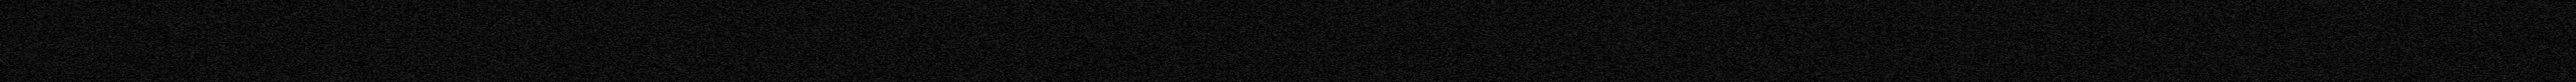wv_am: (1025, 0, 1030, 82), (977, 0, 981, 82)
wv_cw: (582, 0, 585, 82)
wv_usb: (2288, 0, 2293, 82), (2443, 0, 2446, 44), (2390, 0, 2394, 38), (2390, 54, 2394, 82), (2390, 39, 2394, 52), (2443, 71, 2446, 82), (2443, 52, 2446, 62), (2443, 46, 2446, 52), (2334, 72, 2338, 79), (2334, 15, 2338, 21), (2334, 8, 2338, 13), (2443, 64, 2446, 67), (2334, 25, 2338, 28), (2443, 69, 2446, 71), (2334, 80, 2338, 82), (2336, 3, 2338, 7), (2336, 30, 2338, 31)
wv_wbfm: (1304, 26, 1367, 82), (816, 0, 862, 69), (1318, 0, 1360, 26), (816, 71, 862, 82)
